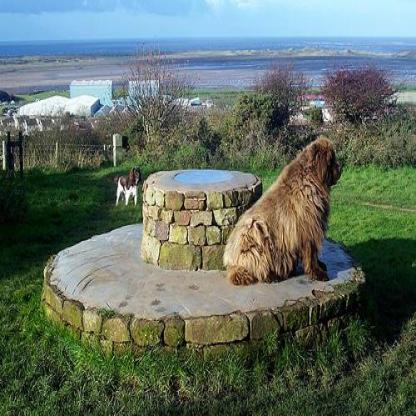Newfoundland: (221, 134, 344, 287)
